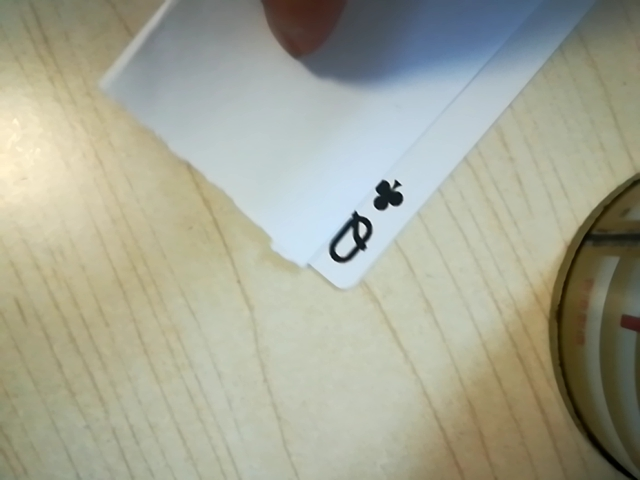mh q: (312, 168, 414, 276)
